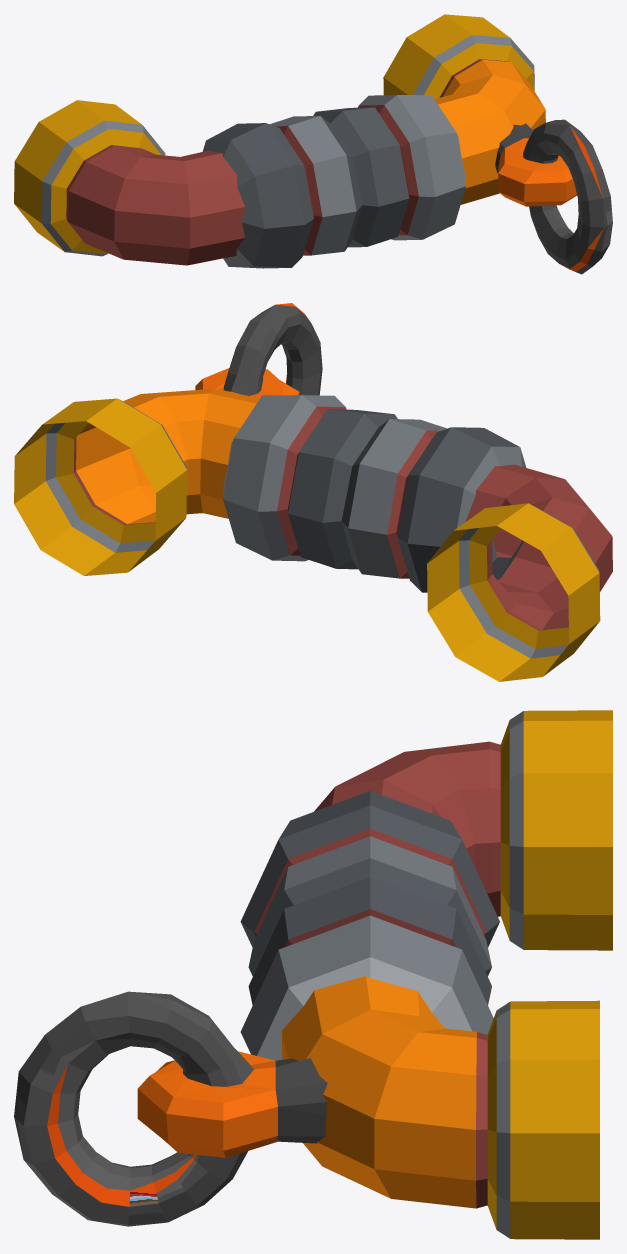
File: VR_SP_GrabHandle_01a.glb
The picture shows the model from 3 angles, top to bottom: view 1: azimuth 30°, elevation 25°; view 2: azimuth 150°, elevation 25°; view 3: azimuth 270°, elevation 25°; orthographic projection. The views are drawn at different scales.
Visible parts, largest first — view 1: VR_SP_GrabHandle_01a; view 2: VR_SP_GrabHandle_01a; view 3: VR_SP_GrabHandle_01a.
Boxes of the visible parts, left/top/right/bottom form: VR_SP_GrabHandle_01a: left=14, top=14, right=612, bottom=274; VR_SP_GrabHandle_01a: left=14, top=303, right=612, bottom=681; VR_SP_GrabHandle_01a: left=14, top=710, right=612, bottom=1239.
Bounding box in the file's own units: 1.63 × 0.4727 × 1.06.
Materials: 1 (1 with a texture image).
